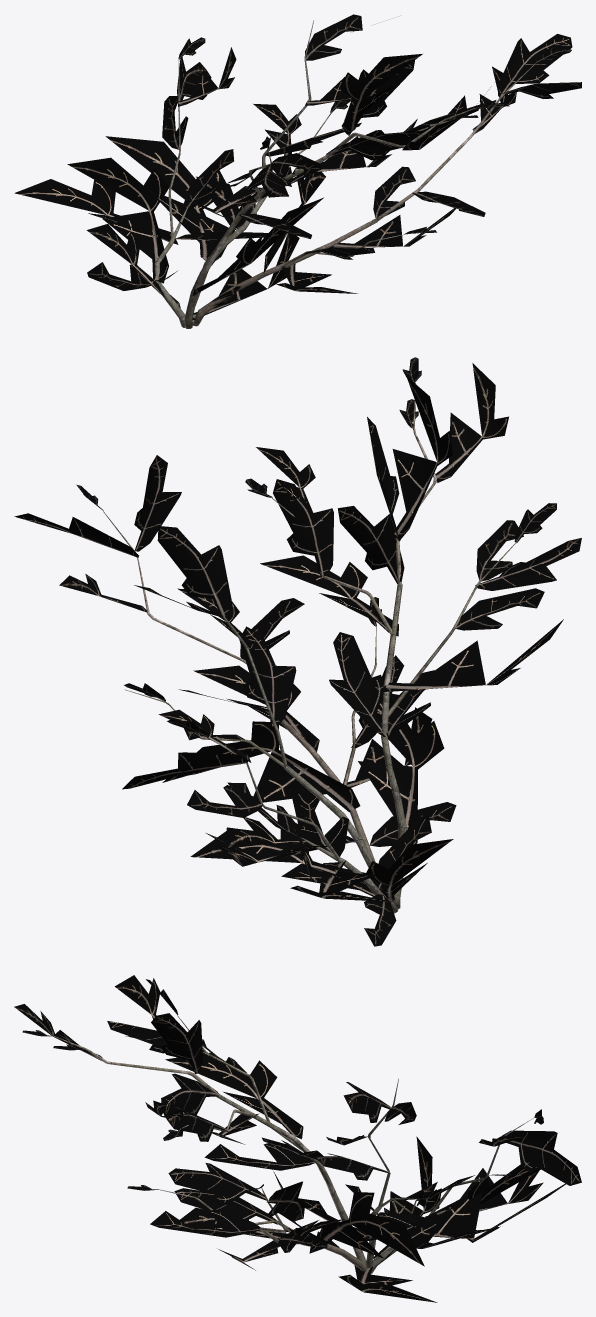
File: SM_Bush_03.fbx
3 views of the same model, one above another, from view 1: azimuth 30°, elevation 25°; view 2: azimuth 150°, elevation 25°; view 3: azimuth 270°, elevation 25° (orthographic). The views are drawn at different scales.
Visible parts, largest first — view 1: SM_Bush_03; view 2: SM_Bush_03; view 3: SM_Bush_03.
Boxes of the visible parts, x1=… form: SM_Bush_03: x1=14, y1=14, x2=581, y2=328; SM_Bush_03: x1=14, y1=357, x2=581, y2=946; SM_Bush_03: x1=14, y1=975, x2=581, y2=1302.
Bounding box in the file's own units: 597 × 655 × 436.
2 materials, 2 textured.
